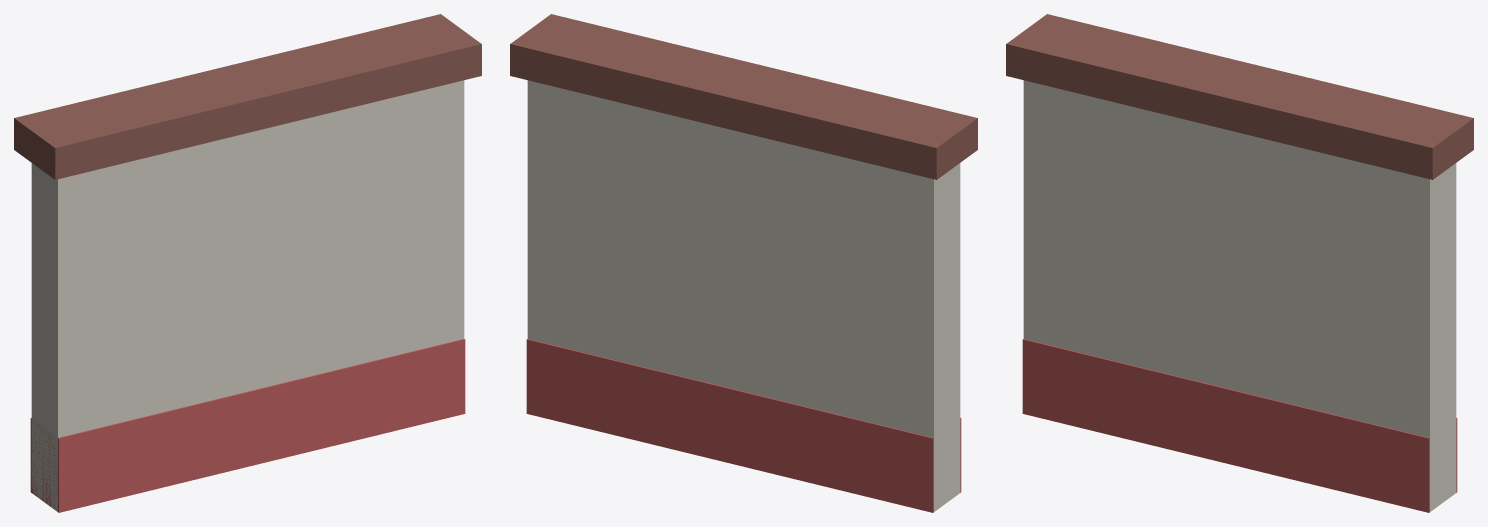
The model's file is wall_segment.glb.
3 renders of one model, left to right at view 1: azimuth 30°, elevation 25°; view 2: azimuth 150°, elevation 25°; view 3: azimuth 330°, elevation 25°, orthographic.
Parts seen in each view (by area): view 1: wall_segment; view 2: wall_segment; view 3: wall_segment.
Part boxes in pixels (bbox=[...]): wall_segment: bbox=[14, 14, 481, 512]; wall_segment: bbox=[510, 14, 977, 512]; wall_segment: bbox=[1006, 14, 1473, 512].
Size of the model in its own units: 4.2 by 3.5 by 0.7.
